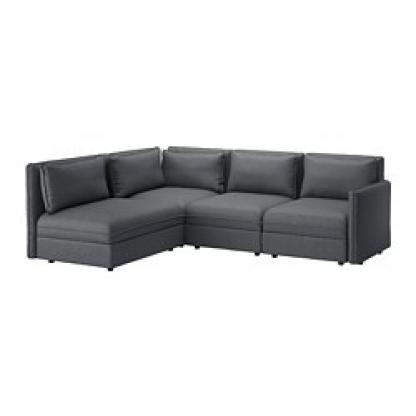Sofa: (22, 113, 396, 301)
